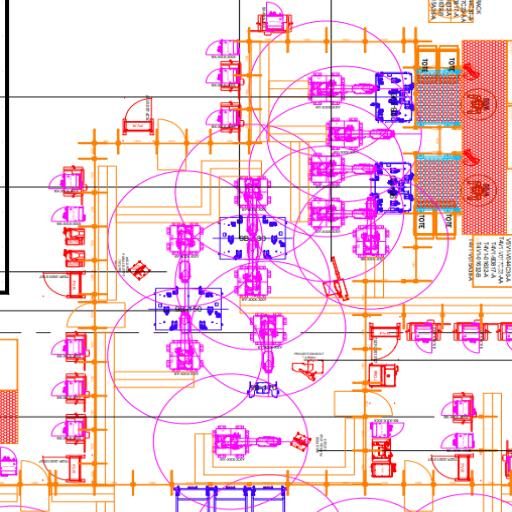robot: (228, 171, 279, 240), (318, 115, 398, 153), (306, 70, 378, 110), (306, 193, 378, 233), (164, 221, 208, 286), (211, 424, 284, 462), (164, 311, 206, 376), (232, 240, 274, 304), (310, 154, 378, 188), (250, 312, 287, 374)
